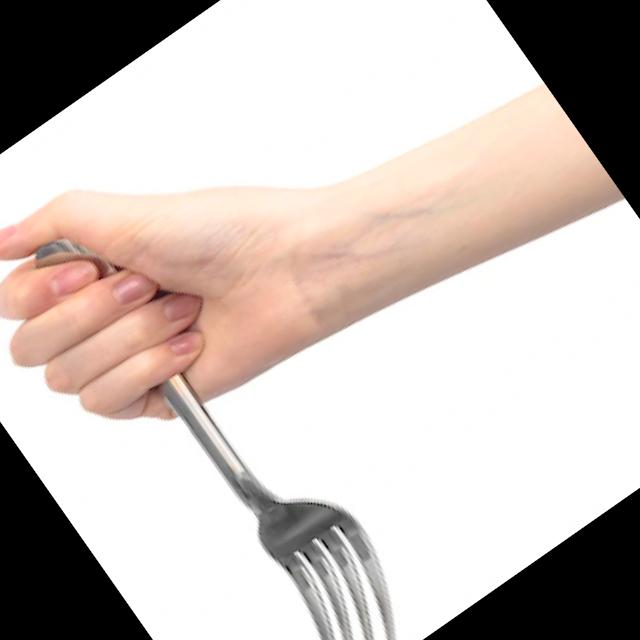fork: (25, 187, 434, 640)
